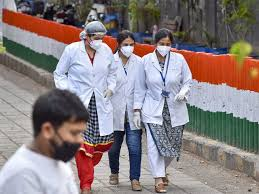mask: (34, 89, 87, 164), (82, 17, 106, 50), (152, 27, 175, 56), (115, 28, 135, 56)
